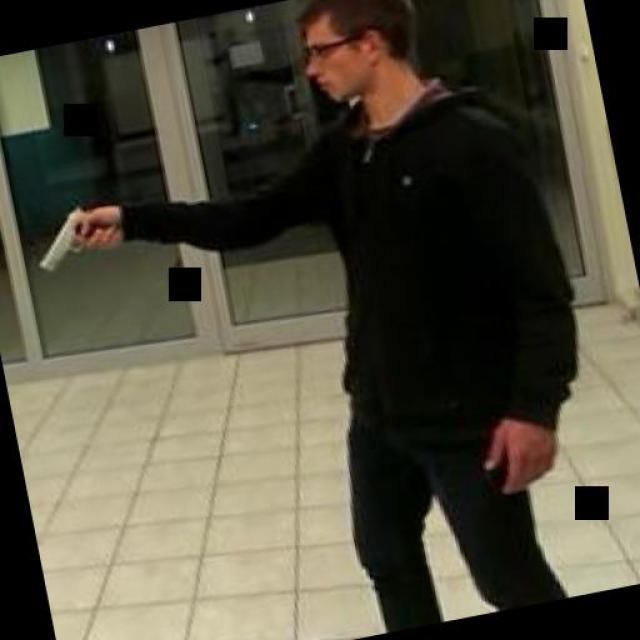gun: (24, 196, 114, 272)
